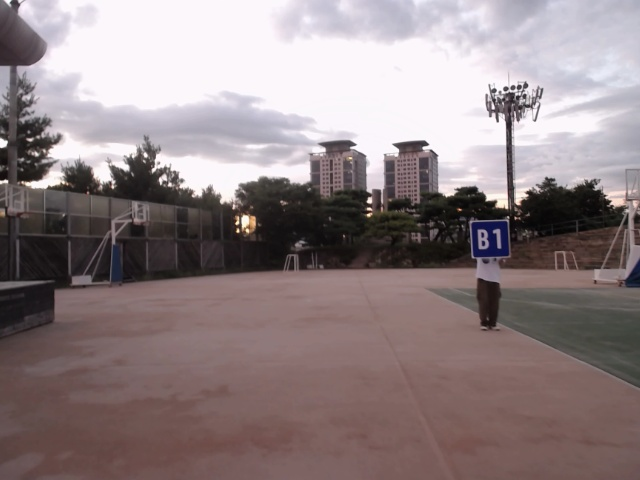delivery_b1: (471, 220, 511, 259)
